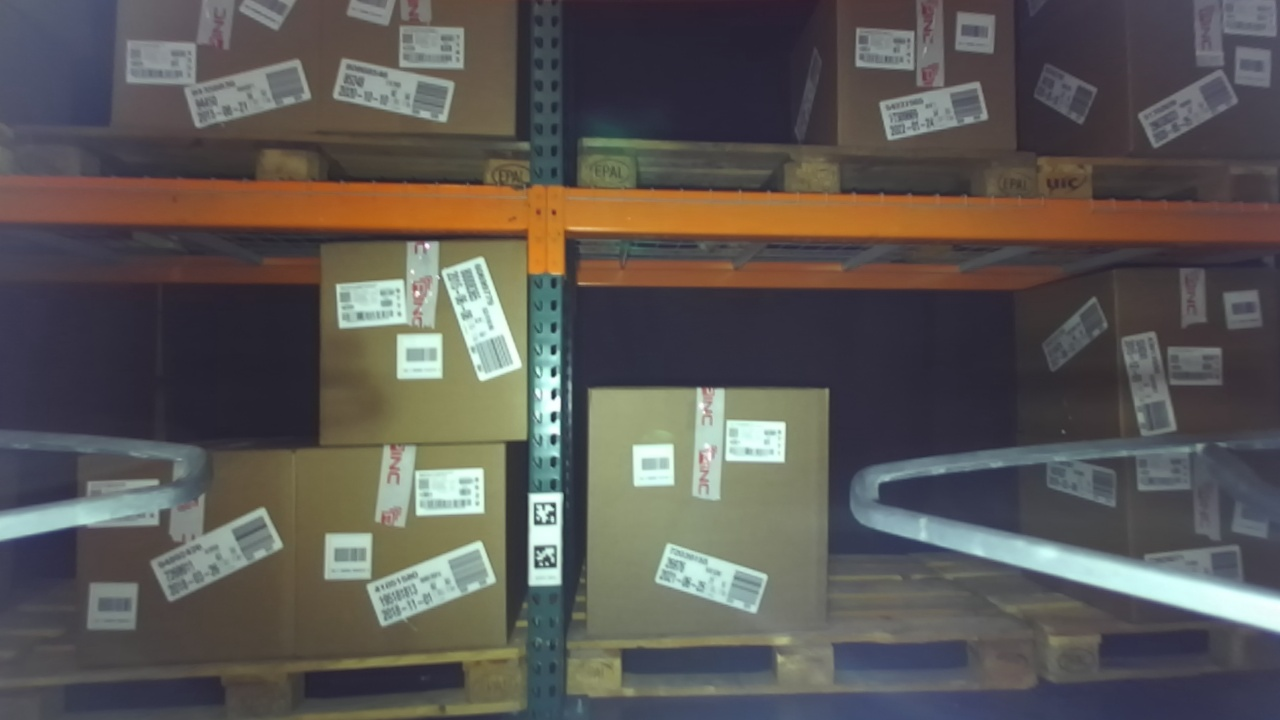box: (565, 356, 853, 657), (262, 416, 529, 683), (55, 427, 313, 700), (300, 210, 549, 456), (814, 4, 1046, 190), (93, 1, 333, 166), (1086, 421, 1280, 622), (316, 1, 547, 157), (1105, 254, 1280, 454), (1100, 2, 1280, 181)
